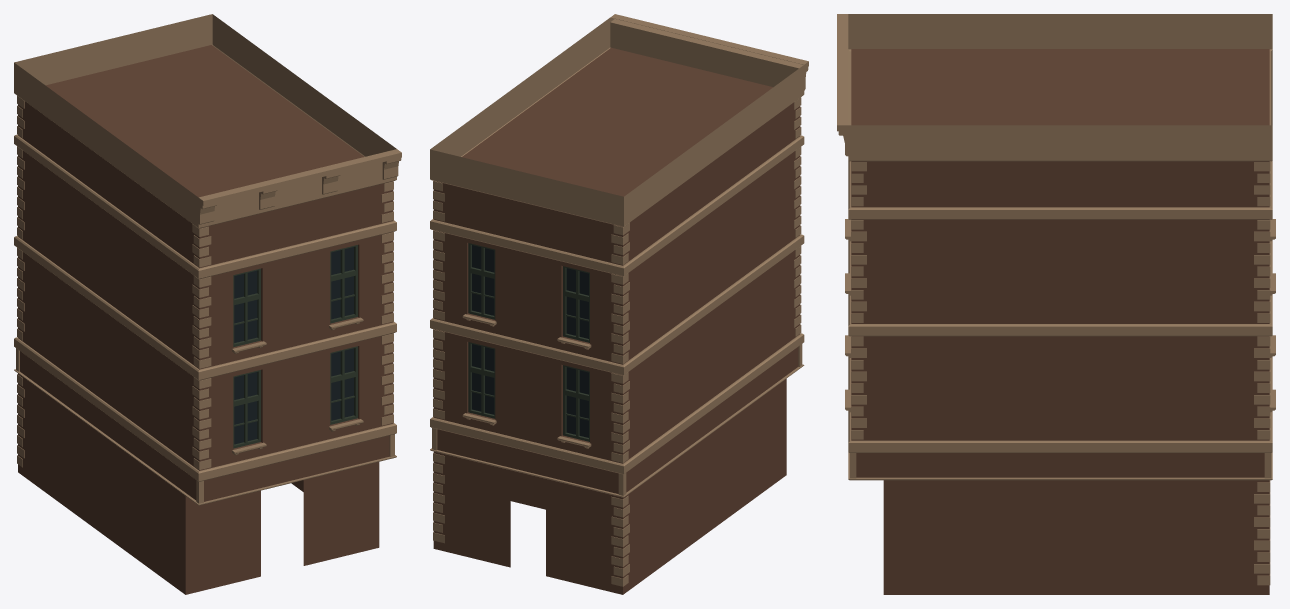
Rendered from Building1.fbx.
The picture shows the model from 3 angles, left to right: view 1: azimuth 30°, elevation 25°; view 2: azimuth 150°, elevation 25°; view 3: azimuth 270°, elevation 25°; orthographic projection. The views are drawn at different scales.
Parts seen in each view (by area): view 1: Cube.005; view 2: Cube.005; view 3: Cube.005.
Part boxes in pixels (box(x1,y1,x2,y2)): Cube.005: box(14, 14, 401, 594); Cube.005: box(430, 14, 808, 594); Cube.005: box(837, 14, 1275, 594).
Bounding box in the file's own units: 820 × 1616 × 1365.
